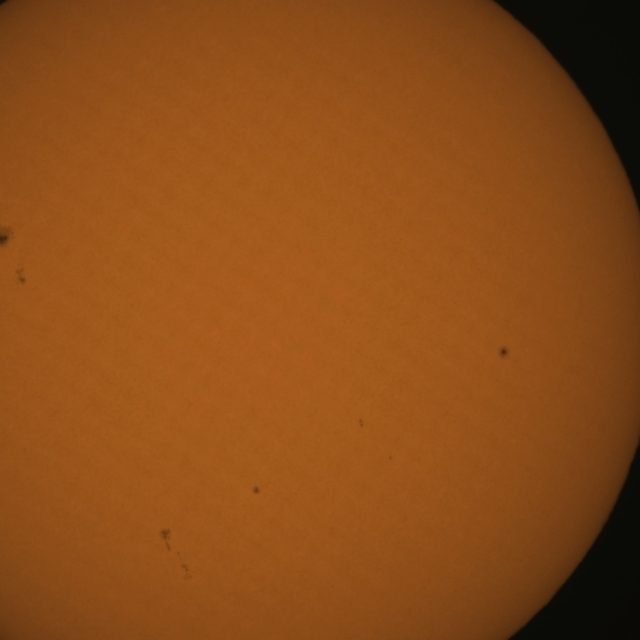sunspot: (160, 527, 184, 560), (0, 224, 16, 248), (178, 560, 194, 580), (14, 266, 28, 287), (498, 345, 510, 360), (251, 485, 261, 496), (358, 418, 364, 429), (387, 454, 394, 461)
